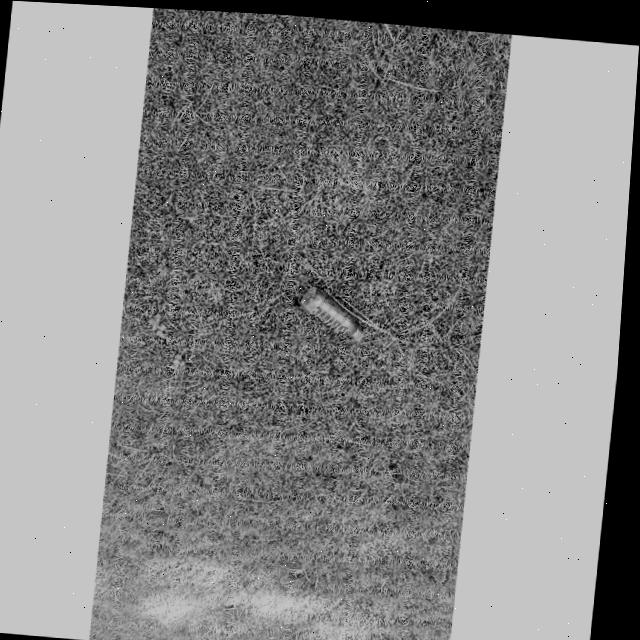Prime - Shitass: (298, 281, 371, 339)
